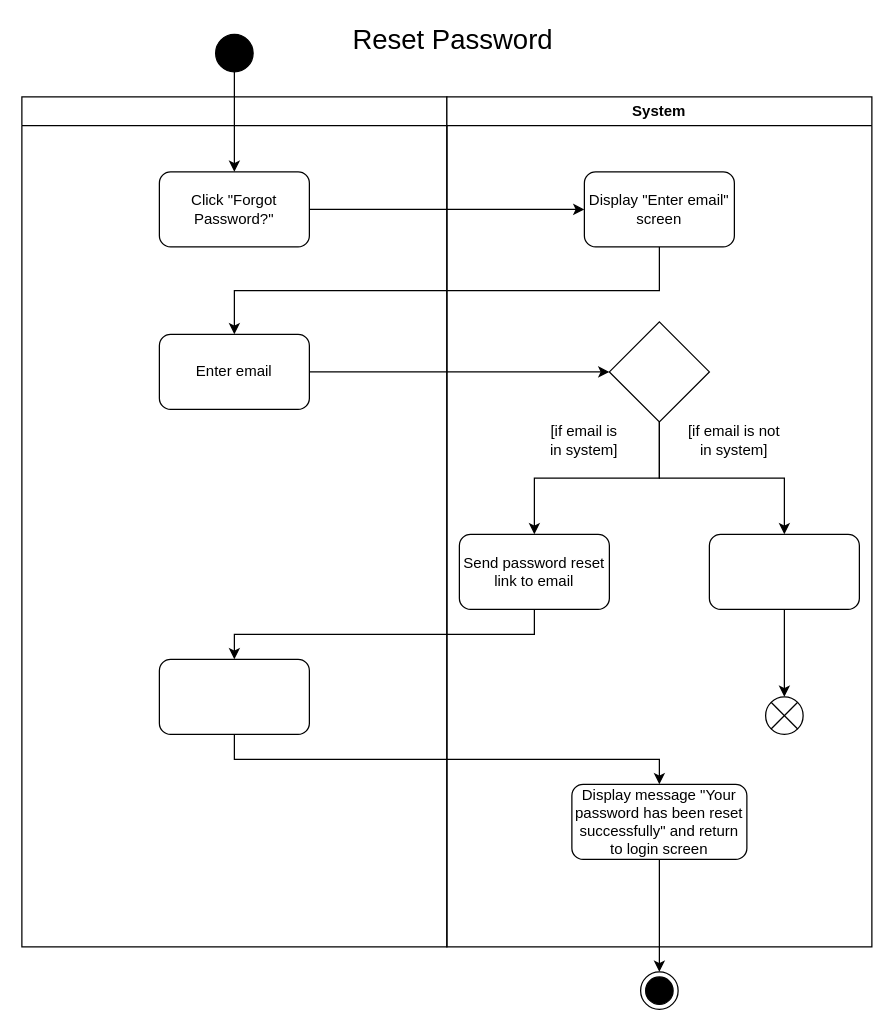
The diagram is 894 pixels wide and 1031 high, and some of its shapes have lost their labels. The shapes that lost their labels are listed below. From the top down, each one's box as (x1, y1, x2, y2) in pixels, then its label:
(21, 96, 447, 947): User
(708, 533, 859, 609): Display message "We do not recognize that email."
(158, 658, 309, 734): Open email and set new password
